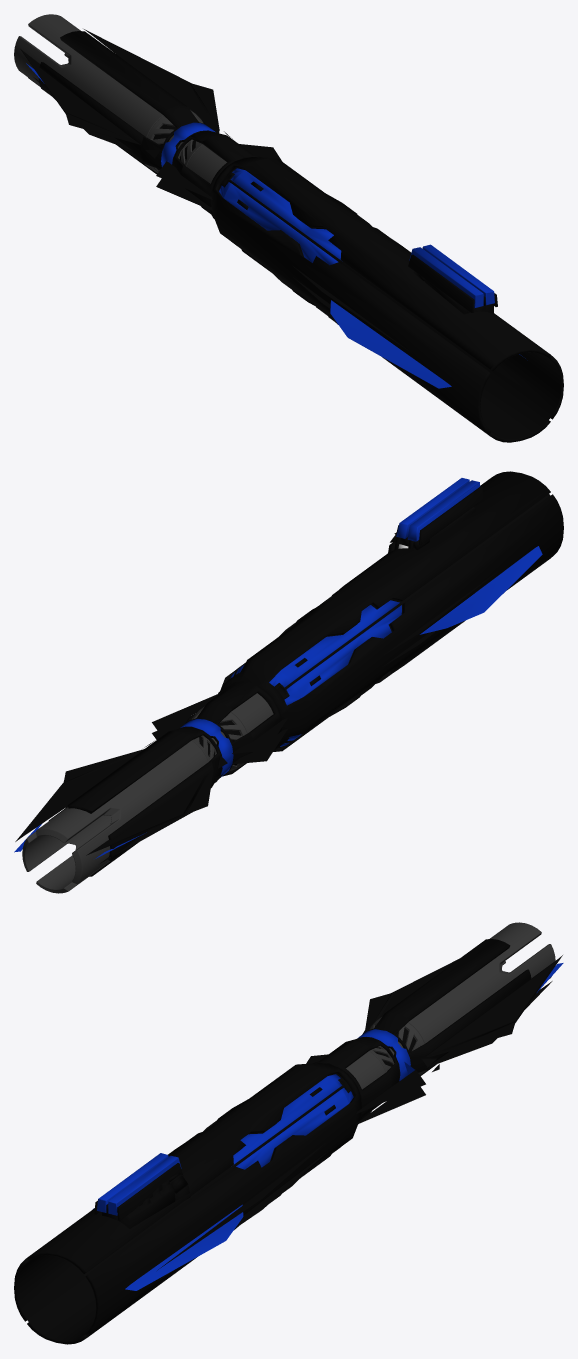
File: gun2.obj
3 views of the same model, one above another, from view 1: azimuth 30°, elevation 25°; view 2: azimuth 150°, elevation 25°; view 3: azimuth 330°, elevation 25° (orthographic).
Parts seen in each view (by area): view 1: 枪身_export.051, 套筒._export.068, 套筒_银._export.067, sides_export.042, topline_export.027, backside_export.016; view 2: 枪身_export.051, 套筒_银._export.067, 套筒._export.068, sides_export.042, topline_export.027, backside_export.016, btop_new_gun_copy.016_ToShapeMesh; view 3: 枪身_export.051, 套筒._export.068, sides_export.042, 套筒_银._export.067, topline_export.027, backside_export.016, btop_new_gun_copy.016_ToShapeMesh.
Part boxes in pixels (bbox=[...]): 枪身_export.051: bbox=[211, 157, 563, 442]; 套筒._export.068: bbox=[38, 31, 260, 218]; 套筒_银._export.067: bbox=[14, 14, 226, 183]; sides_export.042: bbox=[20, 29, 408, 350]; topline_export.027: bbox=[408, 244, 497, 312]; backside_export.016: bbox=[330, 300, 525, 388]; 枪身_export.051: bbox=[220, 471, 563, 751]; 套筒_银._export.067: bbox=[22, 693, 273, 893]; 套筒._export.068: bbox=[49, 681, 281, 876]; sides_export.042: bbox=[14, 571, 497, 863]; topline_export.027: bbox=[395, 478, 483, 545]; backside_export.016: bbox=[420, 546, 542, 634]; btop_new_gun_copy.016_ToShapeMesh: bbox=[388, 506, 475, 553]; 枪身_export.051: bbox=[14, 1063, 361, 1344]; 套筒._export.068: bbox=[313, 939, 531, 1120]; sides_export.042: bbox=[157, 955, 563, 1281]; 套筒_银._export.067: bbox=[346, 922, 555, 1089]; topline_export.027: bbox=[94, 1153, 182, 1220]; backside_export.016: bbox=[92, 1204, 243, 1290]; btop_new_gun_copy.016_ToShapeMesh: bbox=[102, 1172, 190, 1228].
Size of the model in its own units: 1.23 by 0.9219 by 7.
